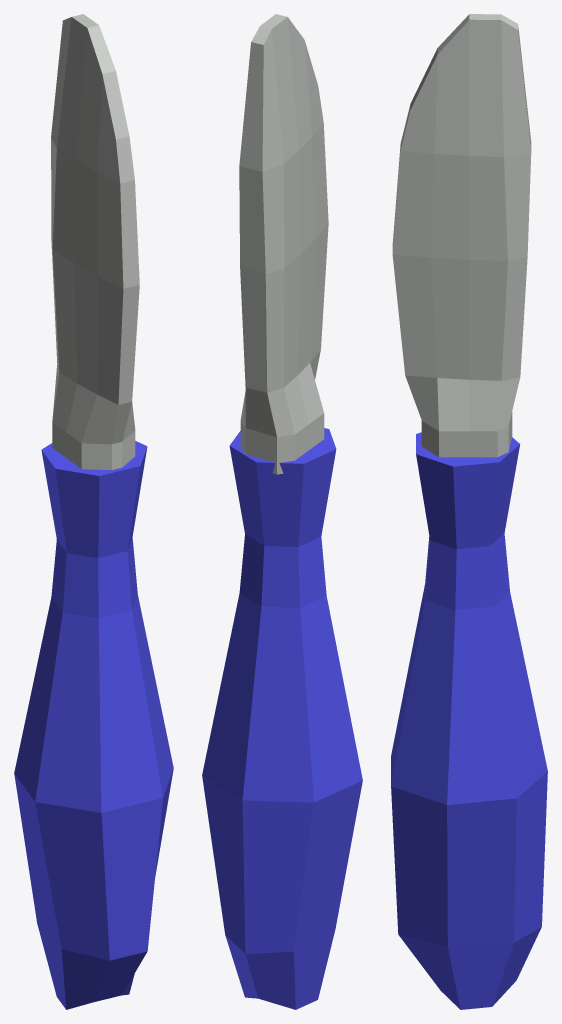
File: knife-blue.fbx
The picture shows the model from 3 angles, left to right: view 1: azimuth 30°, elevation 25°; view 2: azimuth 150°, elevation 25°; view 3: azimuth 270°, elevation 25°; orthographic projection.
Visible parts, largest first — view 1: knife.002; view 2: knife.002; view 3: knife.002.
Boxes of the visible parts, x1=… form: knife.002: x1=14, y1=14, x2=173, y2=1009; knife.002: x1=202, y1=14, x2=362, y2=1009; knife.002: x1=391, y1=14, x2=547, y2=1009.
Bounding box in the file's own units: 142 × 950 × 138.
